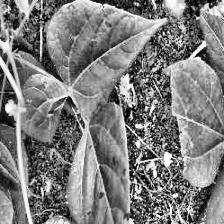ALS: (45, 4, 168, 128), (66, 98, 131, 224), (202, 14, 224, 156)
